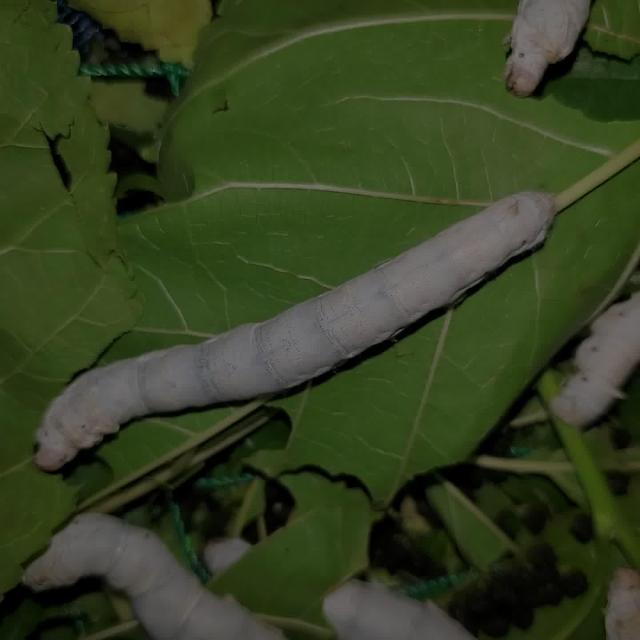Healthy: (22, 157, 580, 489)
